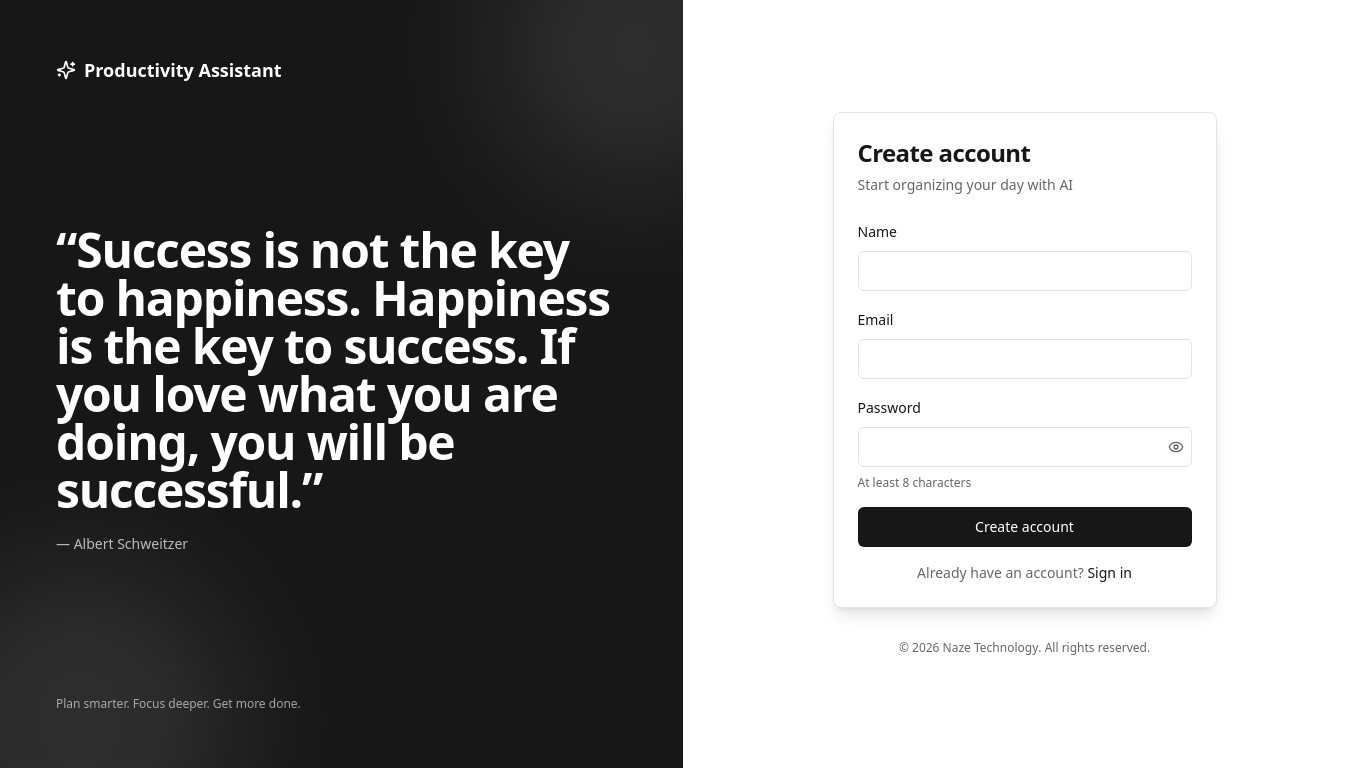
Test case: Register check-your-email step (F3) › shows the verification prompt when an email was sent
Type "new@b.com" into the field labelled "Email" at (1024, 359), box [858,339,1192,379]
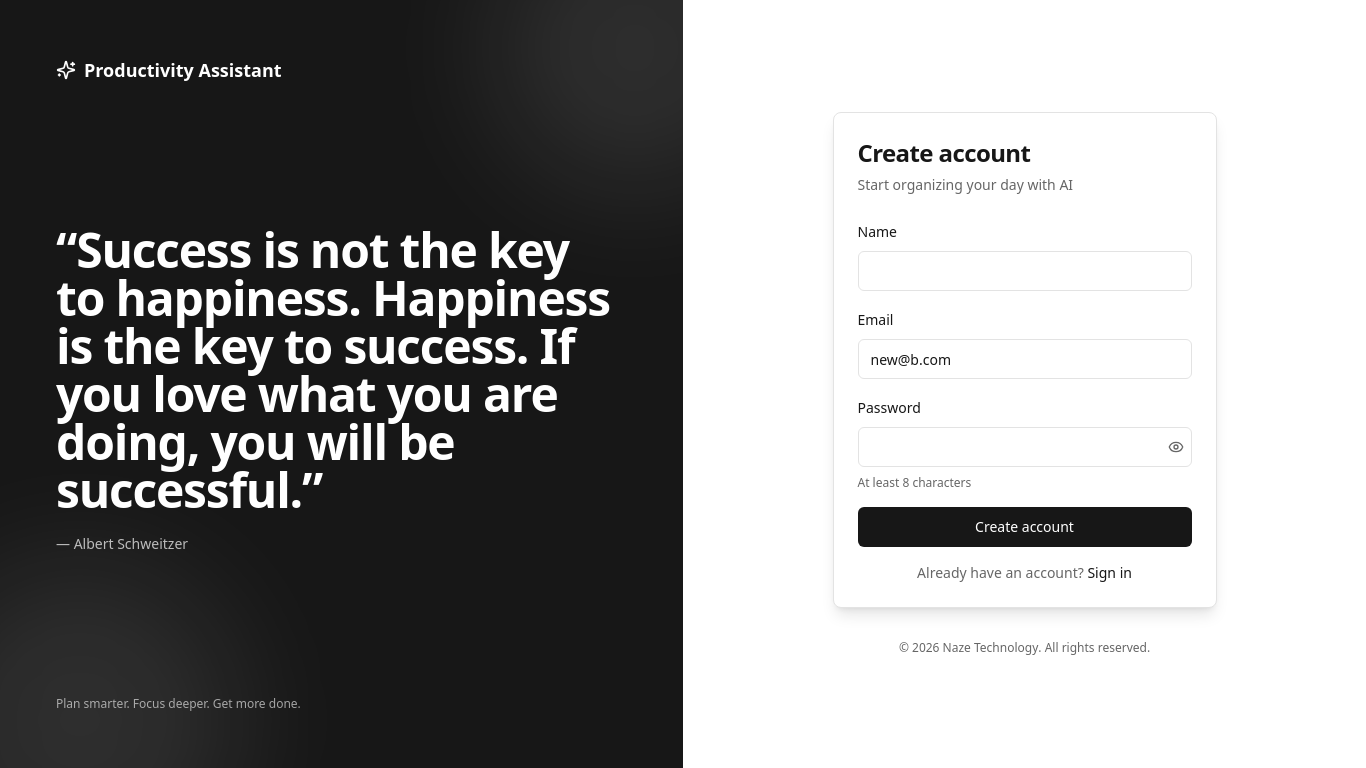
Type "password123" into the password field labelled "Password" at (1024, 447), box [858,427,1192,467]
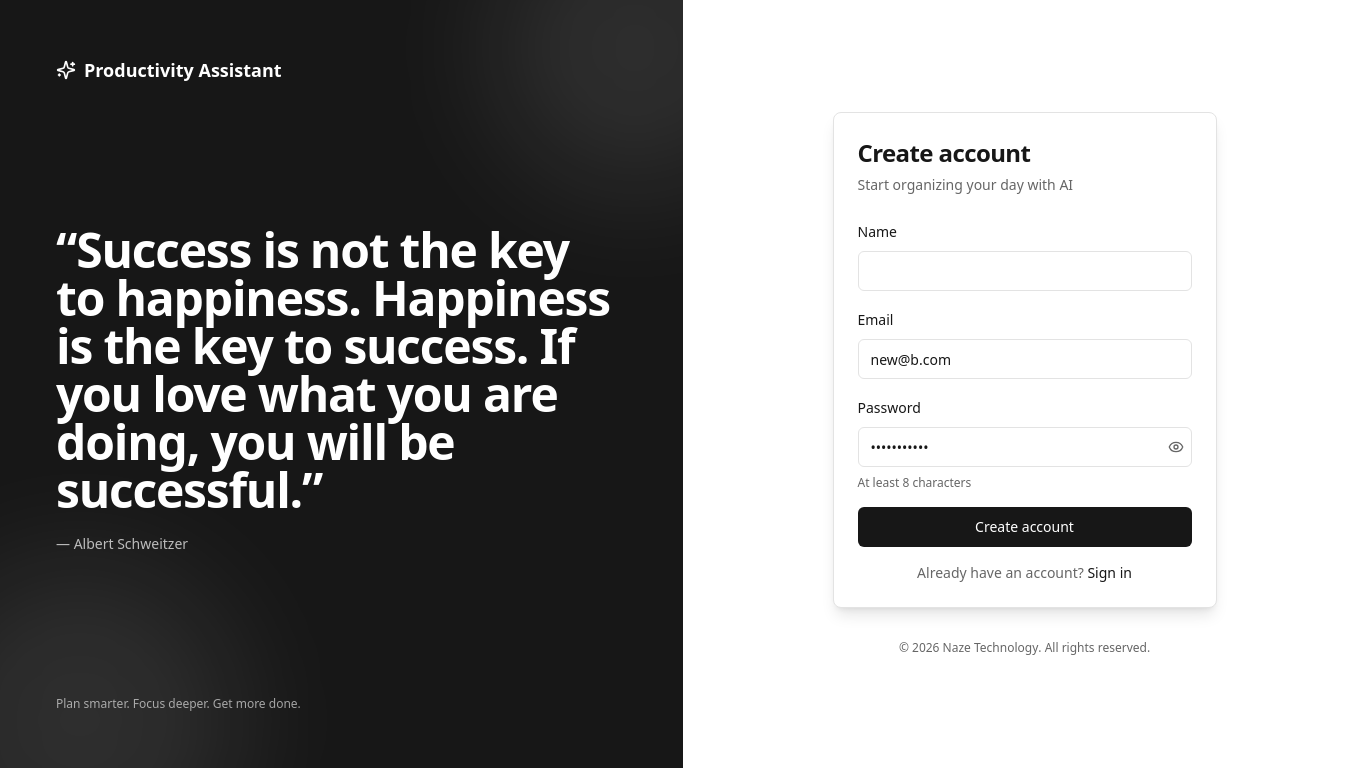
Click the button "Create account" at (1024, 527), box [858,507,1192,547]
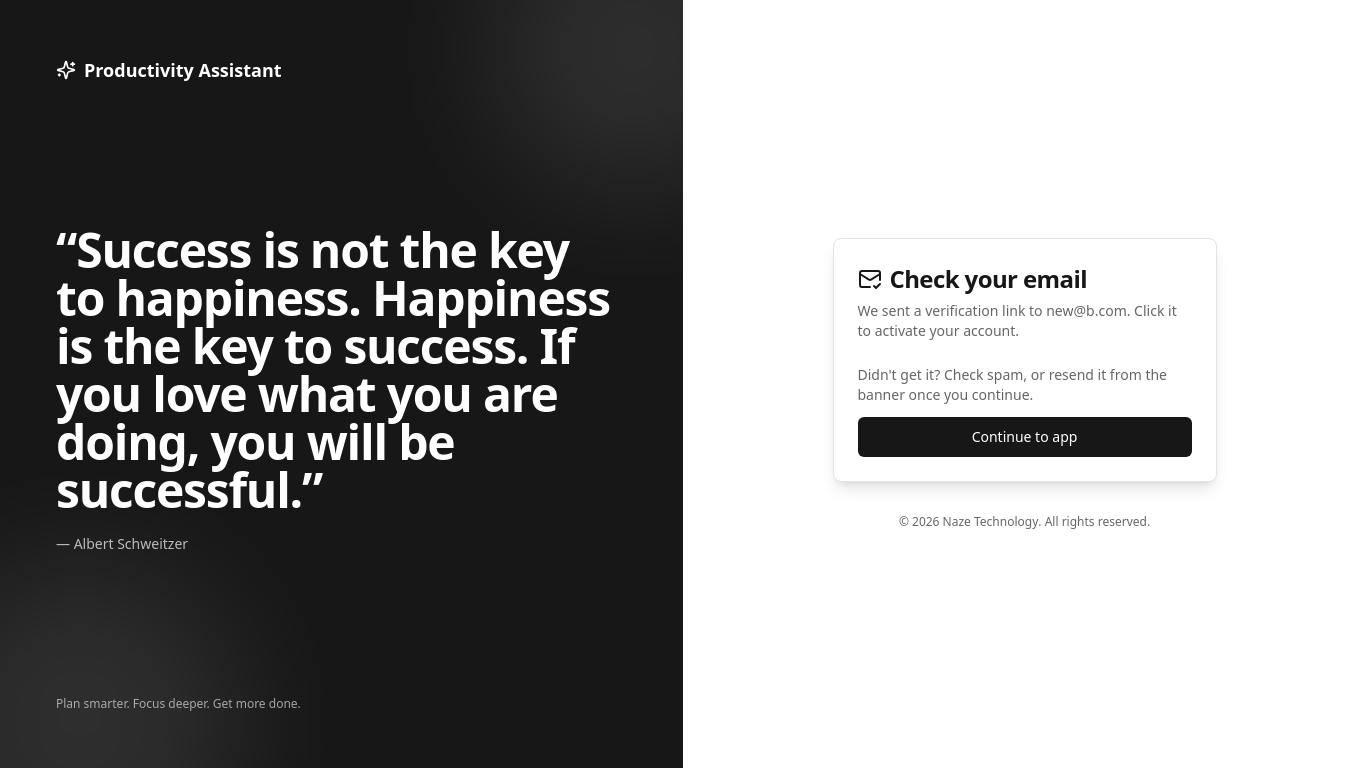
Check: the heading "Check your email" is shown, box [858,262,1087,295]
Check: the text "new@b.com" is shown, box [1046,301,1127,320]
